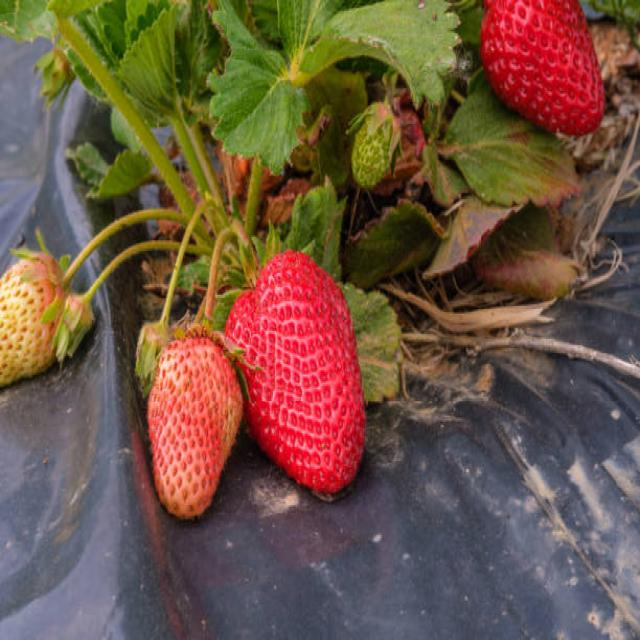Healthy Fruit: (223, 248, 366, 496), (148, 333, 243, 513), (480, 0, 604, 137)
